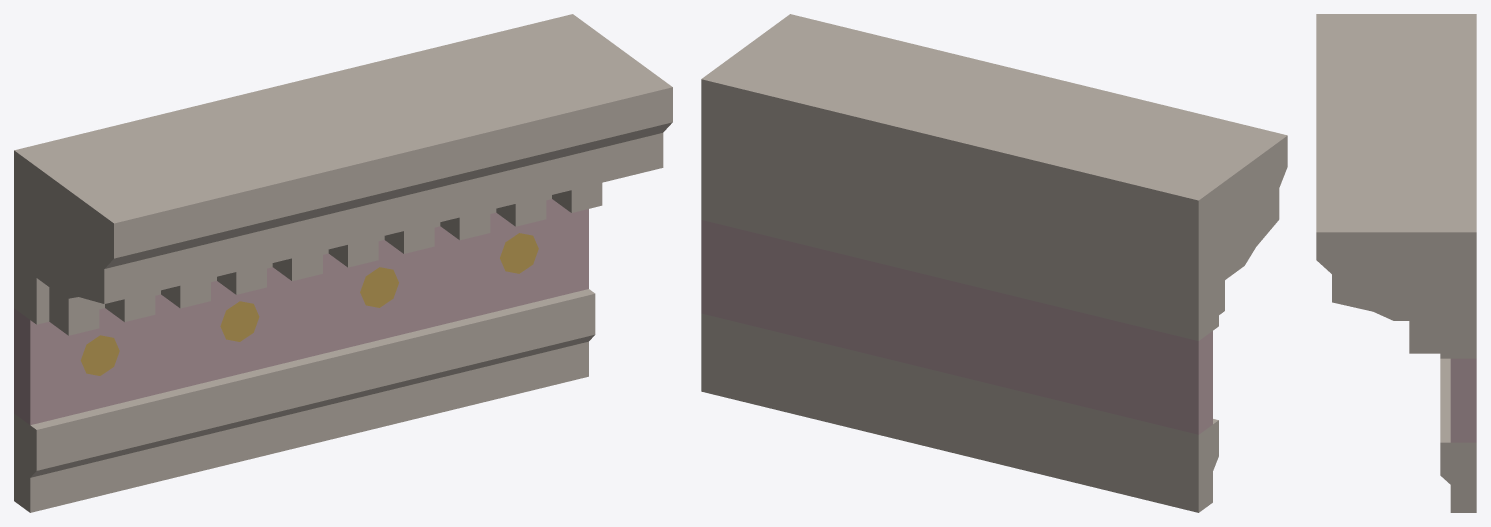
File: facade_cornice.glb
3 views of the same model, side by side, from view 1: azimuth 30°, elevation 25°; view 2: azimuth 150°, elevation 25°; view 3: azimuth 270°, elevation 25° (orthographic). The views are drawn at different scales.
Visible parts, largest first — view 1: facade_cornice; view 2: facade_cornice; view 3: facade_cornice.
Boxes of the visible parts, bbox=[...] form: facade_cornice: bbox=[14, 14, 672, 512]; facade_cornice: bbox=[701, 14, 1287, 512]; facade_cornice: bbox=[1316, 14, 1476, 512].
Size of what is drawn, in the model's own units: 2 by 1.2 by 0.62.
